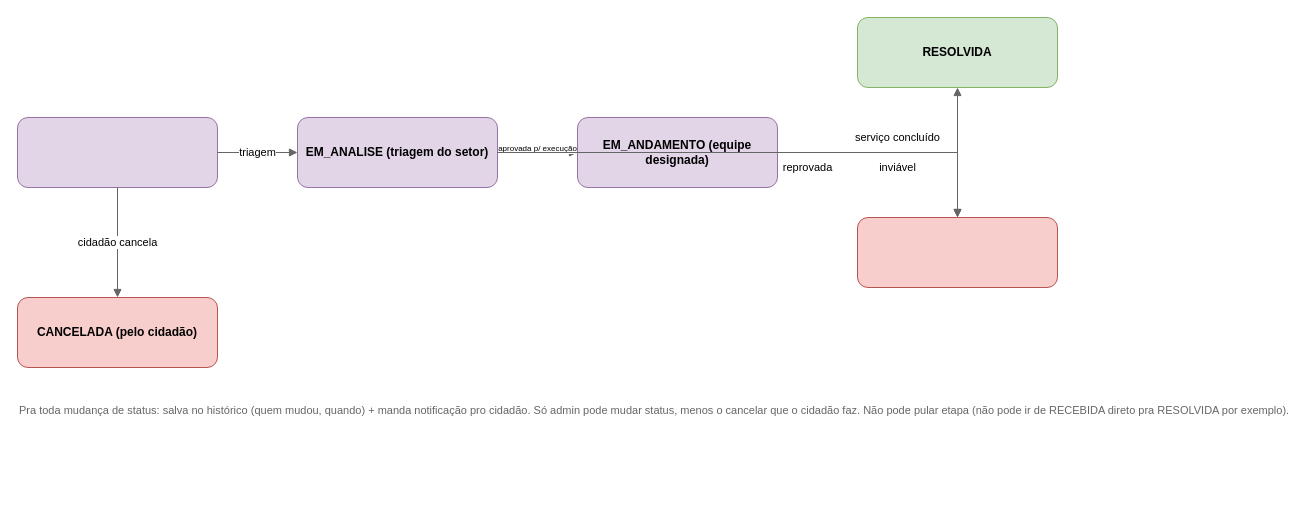
Image size: 1307x505. Some labels were removed from this diagram. Here are the shapes that lost their labels. From the top down, the centre of each, then its label:
(117,152): RECEBIDA (protocolo gerado)
(957,252): INDEFERIDA (motivo obrigatório)
